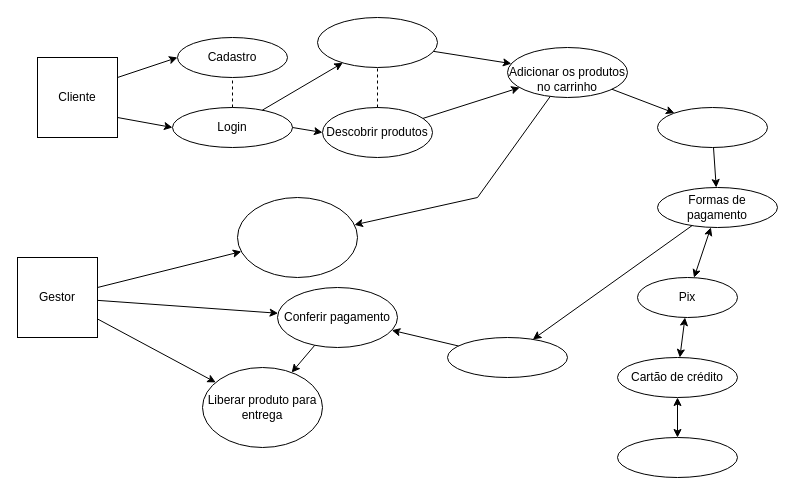
Some shapes in this 795 by 495 pixel diagram are drawn without their labels. Each missing label, with the centre of its shape:
"Buscar produtos" belongs at (377,42).
"Cartão de débito" belongs at (677,457).
"Comprar" belongs at (712,127).
"Pagar" belongs at (507,357).
"Verificar se o produto esta no estoque" belongs at (297,237).
